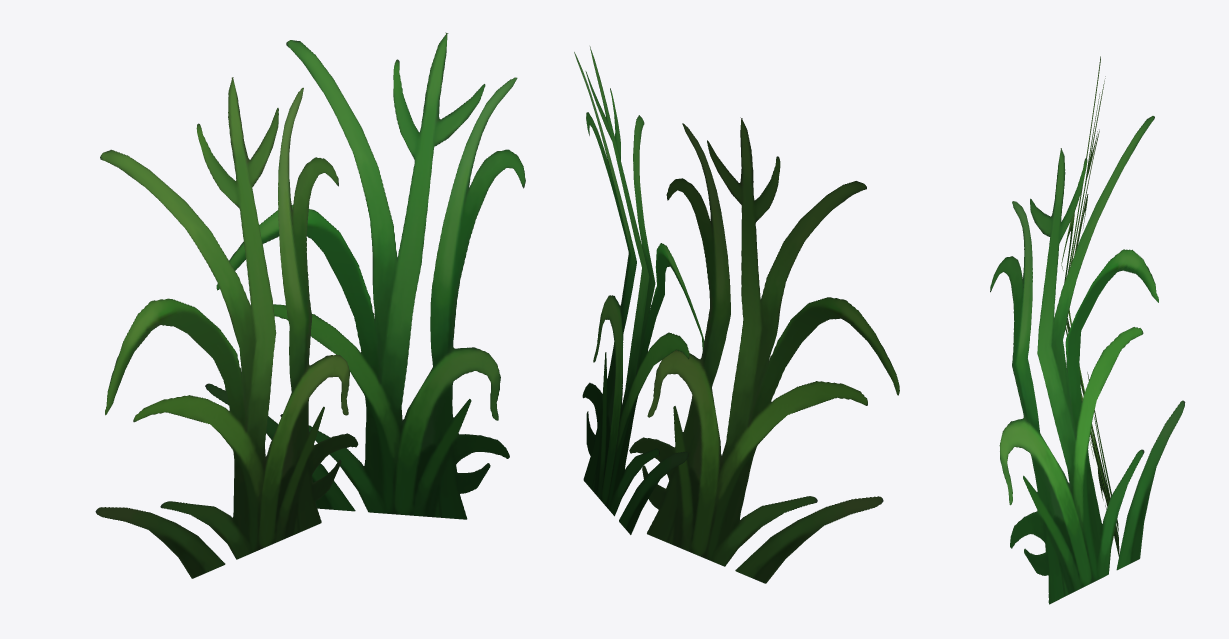
The model's file is 植被草01.FBX.
3 views of the same model, side by side, from view 1: azimuth 30°, elevation 25°; view 2: azimuth 150°, elevation 25°; view 3: azimuth 270°, elevation 25° (orthographic). The views are drawn at different scales.
Parts seen in each view (by area): view 1: 植被草01; view 2: 植被草01; view 3: 植被草01.
Boxes of the visible parts, bbox=[...] form: 植被草01: bbox=[95, 32, 525, 578]; 植被草01: bbox=[574, 46, 899, 583]; 植被草01: bbox=[990, 56, 1185, 604].
Bounding box in the file's own units: 88.93 × 96.77 × 43.13.
Materials: 2 (2 with a texture image).
